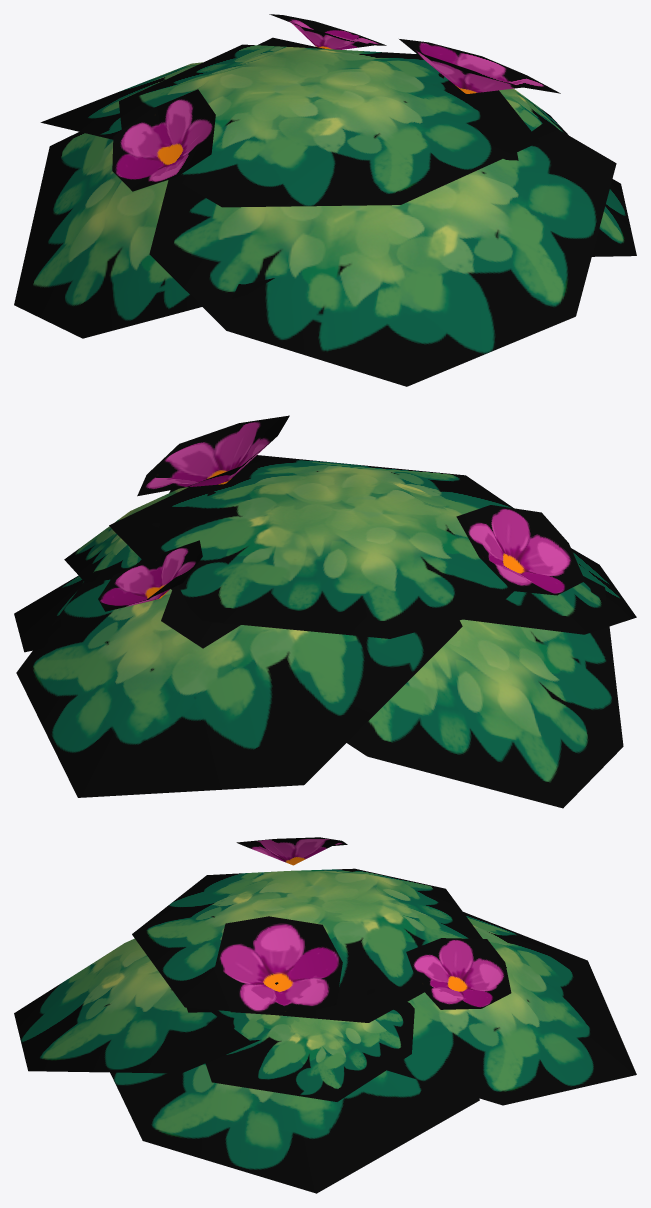
The model's file is SM_Bush_01.fbx.
3 views of the same model, one above another, from view 1: azimuth 30°, elevation 25°; view 2: azimuth 150°, elevation 25°; view 3: azimuth 270°, elevation 25° (orthographic). The views are drawn at different scales.
Parts seen in each view (by area): view 1: Bush6; view 2: Bush6; view 3: Bush6.
Boxes of the visible parts, x1,y1,x2,y2 form: Bush6: [14, 14, 636, 386]; Bush6: [14, 415, 636, 808]; Bush6: [14, 837, 636, 1193].
Size of the model in its own units: 223 by 82.65 by 240.
Materials: 1 (1 with a texture image).
